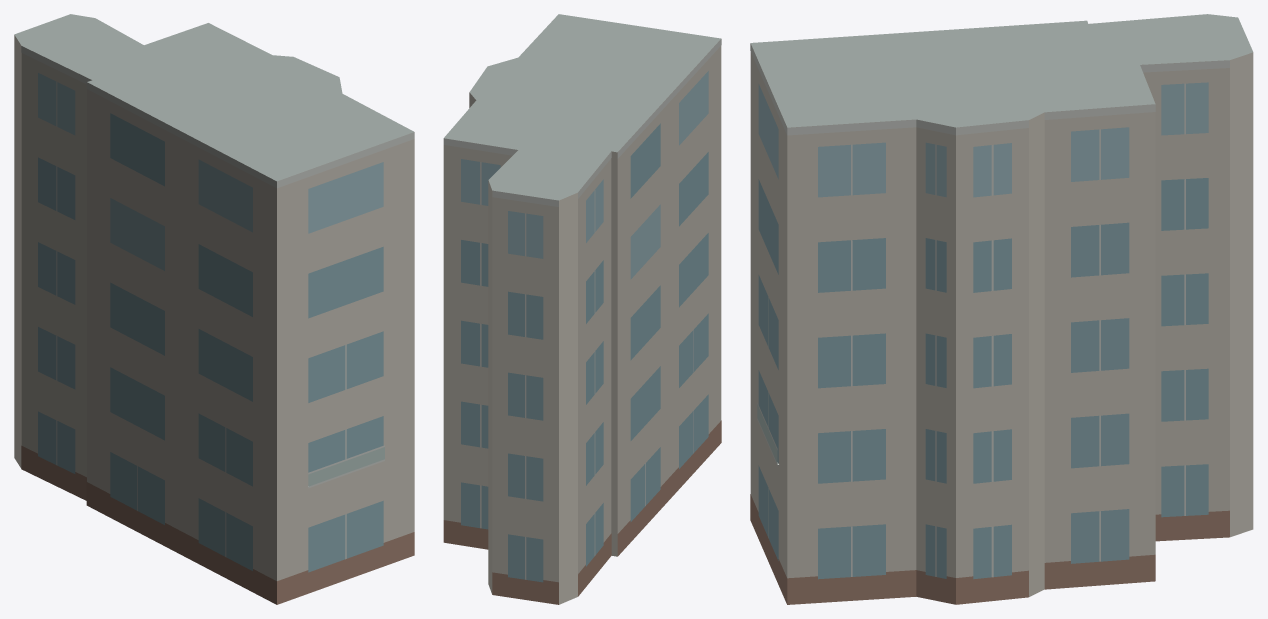
The model's file is survey-upis-32921732.glb.
3 views of the same model, side by side, from view 1: azimuth 30°, elevation 25°; view 2: azimuth 150°, elevation 25°; view 3: azimuth 270°, elevation 25° (orthographic). The views are drawn at different scales.
Parts seen in each view (by area): view 1: survey-upis-32921732.tmp; view 2: survey-upis-32921732.tmp; view 3: survey-upis-32921732.tmp.
Boxes of the visible parts, x1=… form: survey-upis-32921732.tmp: x1=14, y1=14, x2=414, y2=604; survey-upis-32921732.tmp: x1=443, y1=14, x2=721, y2=604; survey-upis-32921732.tmp: x1=750, y1=14, x2=1253, y2=604.
Size of the model in its own units: 7.62 by 14.9 by 14.24.
